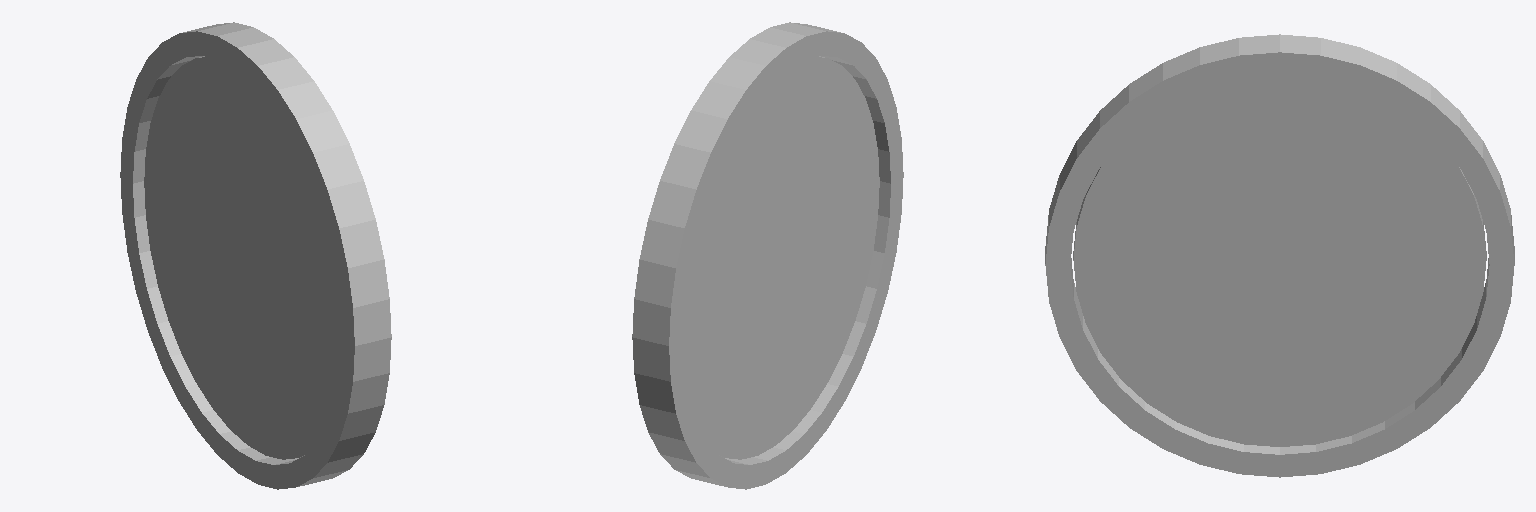
File: coin.obj
The picture shows the model from 3 angles: view 1: azimuth 30°, elevation 25°; view 2: azimuth 150°, elevation 25°; view 3: azimuth 270°, elevation 25°; orthographic projection.
Visible parts, largest first — view 1: Cylinder, Tube; view 2: Cylinder, Tube; view 3: Cylinder, Tube.
Part boxes in pixels (left/top/right/bottom): Cylinder: left=144, top=56, right=341, bottom=459; Tube: left=120, top=22, right=391, bottom=489; Cylinder: left=682, top=56, right=879, bottom=459; Tube: left=632, top=22, right=903, bottom=489; Cylinder: left=1073, top=75, right=1486, bottom=446; Tube: left=1045, top=34, right=1514, bottom=477.
Bounding box in the file's own units: 0.0826 × 0.9146 × 0.9146.